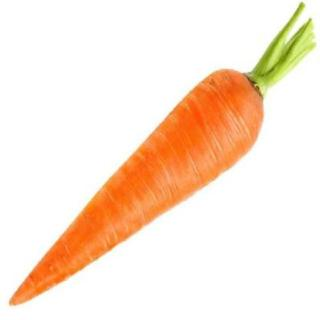carrot: (5, 54, 279, 310)
